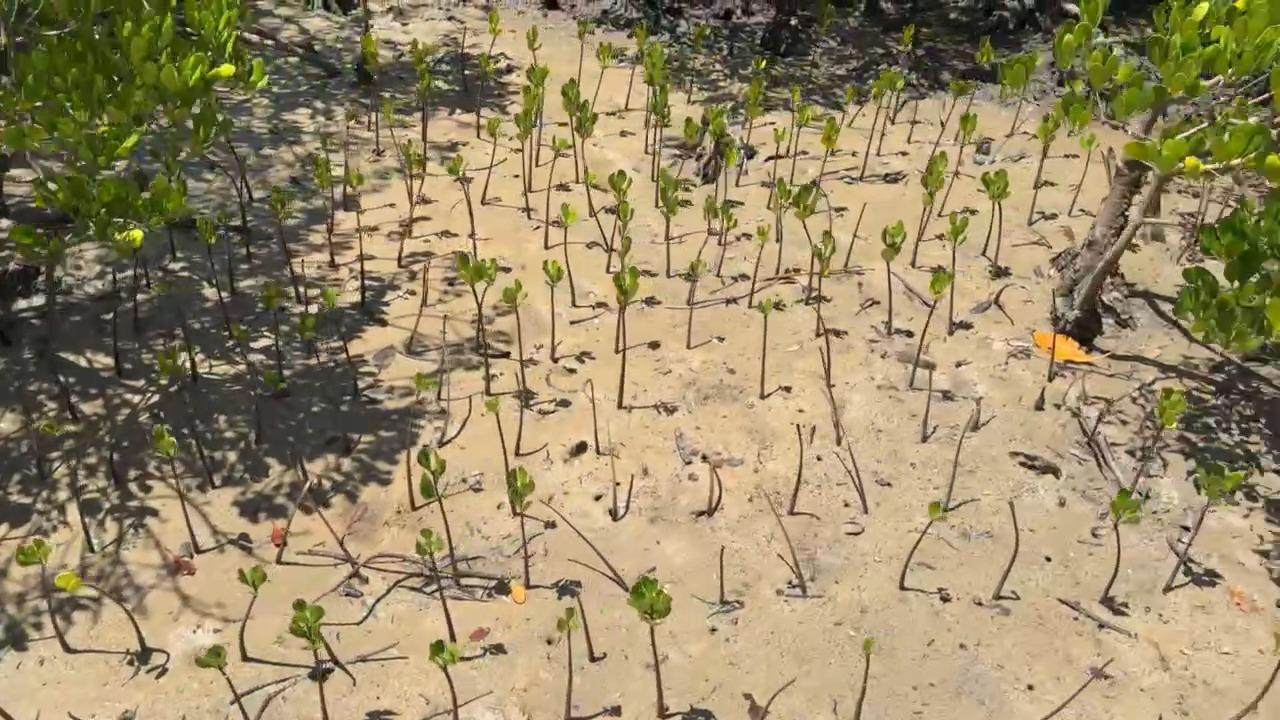Tree: (15, 537, 150, 663), (418, 443, 510, 601), (150, 424, 255, 556), (288, 596, 397, 720), (41, 422, 144, 552), (628, 574, 719, 720), (54, 573, 171, 682), (417, 527, 509, 664), (456, 250, 534, 408), (236, 564, 334, 681), (406, 370, 485, 513), (1162, 469, 1246, 595), (506, 466, 583, 600), (614, 266, 679, 416), (155, 344, 222, 489), (484, 398, 557, 530), (501, 278, 569, 410), (296, 313, 355, 454), (541, 501, 627, 596), (542, 133, 603, 255), (474, 258, 541, 368), (558, 606, 622, 720), (1129, 388, 1188, 500), (397, 166, 461, 269), (908, 265, 956, 402), (515, 109, 569, 228), (1100, 488, 1147, 619), (611, 238, 663, 354), (399, 138, 457, 240), (275, 478, 341, 567), (557, 202, 609, 313), (542, 260, 596, 366), (195, 210, 239, 339), (900, 500, 954, 603), (521, 84, 571, 195), (481, 116, 537, 213), (573, 101, 617, 220), (320, 287, 365, 402), (159, 270, 206, 380), (264, 184, 305, 308), (310, 492, 367, 581), (860, 79, 908, 184), (444, 154, 489, 262), (1042, 656, 1117, 720), (937, 111, 981, 220), (793, 179, 830, 307), (660, 170, 700, 286), (765, 495, 808, 601), (346, 172, 377, 309), (812, 228, 849, 340), (227, 322, 262, 440), (195, 644, 249, 720), (910, 174, 951, 273), (574, 17, 615, 115), (755, 297, 793, 400), (97, 249, 127, 379), (561, 78, 597, 186), (944, 408, 981, 513), (526, 63, 569, 153), (882, 219, 914, 338), (435, 314, 479, 400), (685, 260, 726, 351), (735, 89, 773, 186), (786, 422, 823, 520), (746, 224, 787, 311), (1028, 126, 1064, 225), (405, 265, 444, 356), (811, 117, 849, 210), (929, 79, 971, 163), (980, 171, 1012, 280), (916, 152, 951, 246), (310, 156, 339, 267), (892, 25, 924, 124), (605, 170, 635, 274), (1229, 659, 1280, 720), (411, 36, 440, 142), (259, 280, 290, 377), (617, 204, 658, 276), (803, 5, 838, 88), (991, 169, 1017, 280), (875, 70, 908, 157), (994, 500, 1022, 602), (513, 372, 547, 456), (584, 378, 620, 457), (1067, 132, 1098, 219), (834, 439, 869, 516), (608, 425, 636, 520), (316, 127, 341, 230), (965, 35, 997, 115), (643, 67, 671, 158), (718, 208, 752, 282), (364, 64, 391, 157), (765, 126, 795, 209), (652, 86, 672, 210), (624, 20, 651, 110), (429, 640, 459, 720), (647, 86, 672, 182), (852, 636, 880, 720), (819, 344, 842, 445), (687, 23, 715, 105), (588, 38, 617, 117), (235, 153, 256, 261), (359, 33, 383, 126), (225, 134, 259, 199), (742, 56, 769, 131), (844, 201, 874, 268), (1008, 85, 1041, 140), (578, 594, 605, 661), (833, 83, 858, 155), (785, 83, 808, 158), (473, 50, 492, 139), (642, 44, 662, 127), (758, 678, 797, 720), (953, 82, 981, 140), (718, 545, 743, 608), (920, 366, 939, 444), (813, 306, 832, 383), (209, 162, 242, 205), (52, 362, 78, 415), (1048, 287, 1062, 381), (482, 11, 507, 61), (848, 87, 879, 127), (460, 24, 475, 91), (707, 462, 724, 515), (297, 257, 313, 310), (524, 25, 543, 68), (135, 252, 144, 324), (140, 249, 154, 289), (165, 224, 181, 257)
